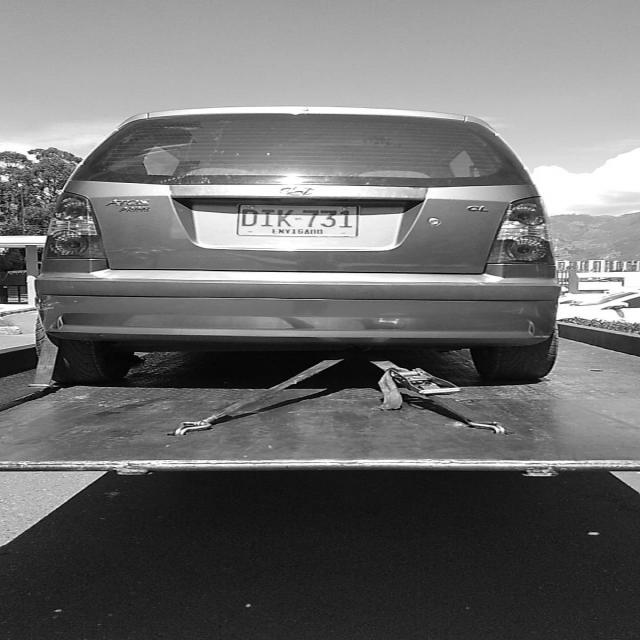plate: (234, 200, 364, 240)
